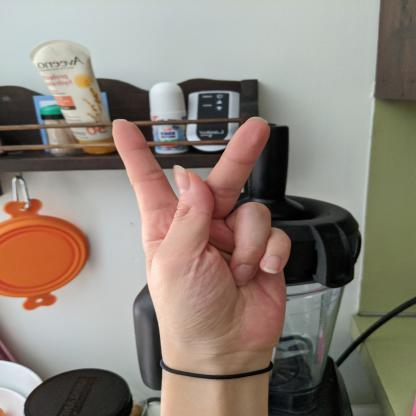K: (106, 114, 300, 365)
